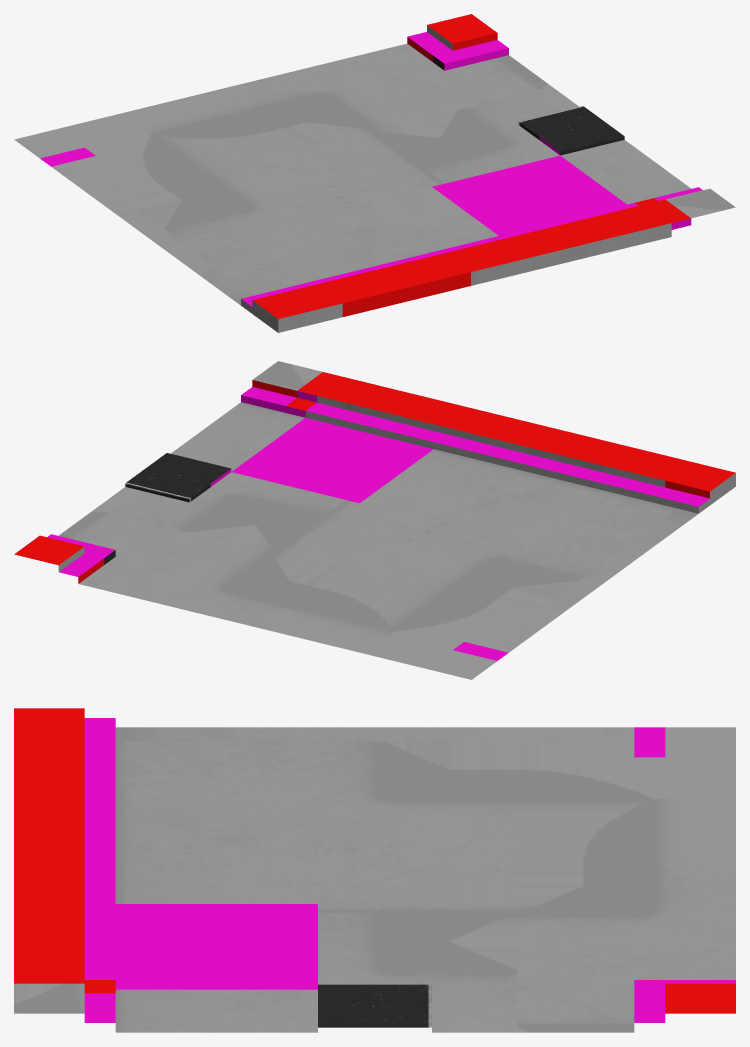
The model's file is Floor-Entrance001.fbx.
The picture shows the model from 3 angles, top to bottom: view 1: azimuth 30°, elevation 25°; view 2: azimuth 150°, elevation 25°; view 3: azimuth 270°, elevation 25°; orthographic projection. The views are drawn at different scales.
Visible parts, largest first — view 1: Entrance001; view 2: Entrance001; view 3: Entrance001.
Boxes of the visible parts, x1,y1,x2,y2 form: Entrance001: [14, 14, 735, 332]; Entrance001: [14, 361, 735, 679]; Entrance001: [14, 708, 735, 1032].
Bounding box in the file's own units: 78.74 × 2.28 × 78.74.
4 materials, 2 textured.
